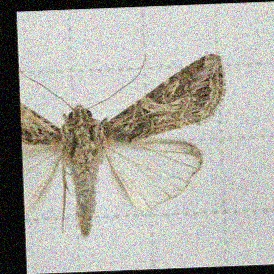Spodoptera litura: (21, 54, 229, 236)
